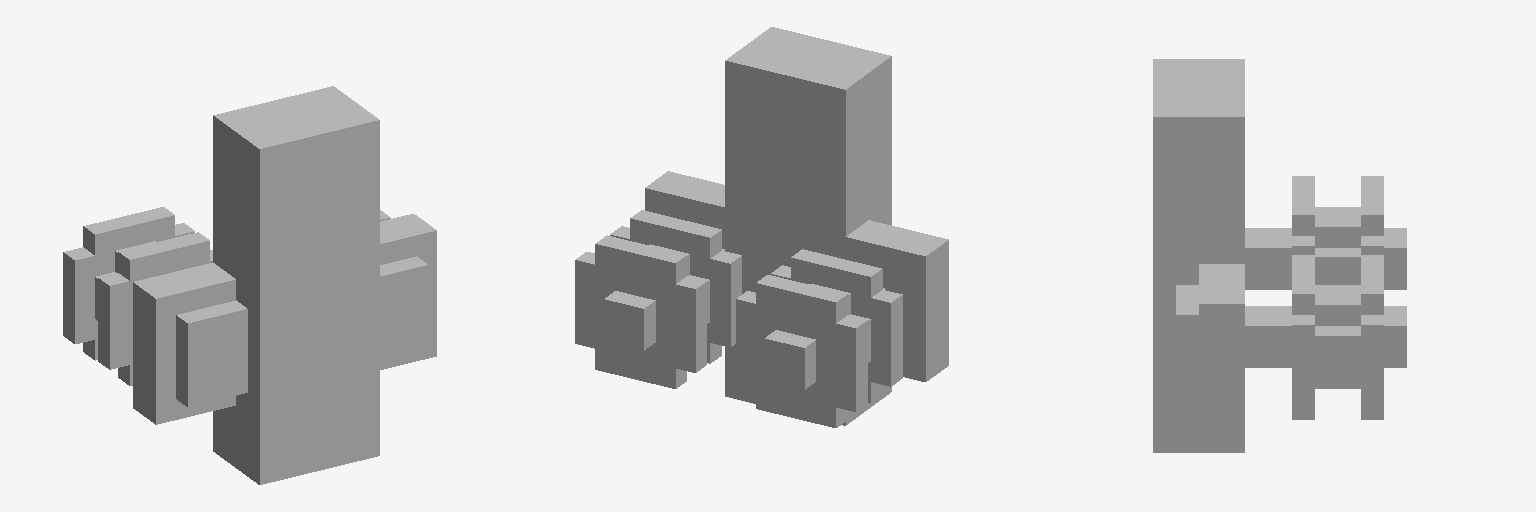
The model's file is chair_lift_pole_arm_end.obj.
3 views of the same model, side by side, from view 1: azimuth 30°, elevation 25°; view 2: azimuth 150°, elevation 25°; view 3: azimuth 270°, elevation 25° (orthographic).
Visible parts, largest first — view 1: node_0_0_0.042; view 2: node_0_0_0.042; view 3: node_0_0_0.042.
Boxes of the visible parts, <box> form: node_0_0_0.042: <box>63,86,436,484</box>; node_0_0_0.042: <box>575,27,948,427</box>; node_0_0_0.042: <box>1153,59,1406,452</box>.
Size of the model in its own units: 0.875 by 1 by 0.6875.